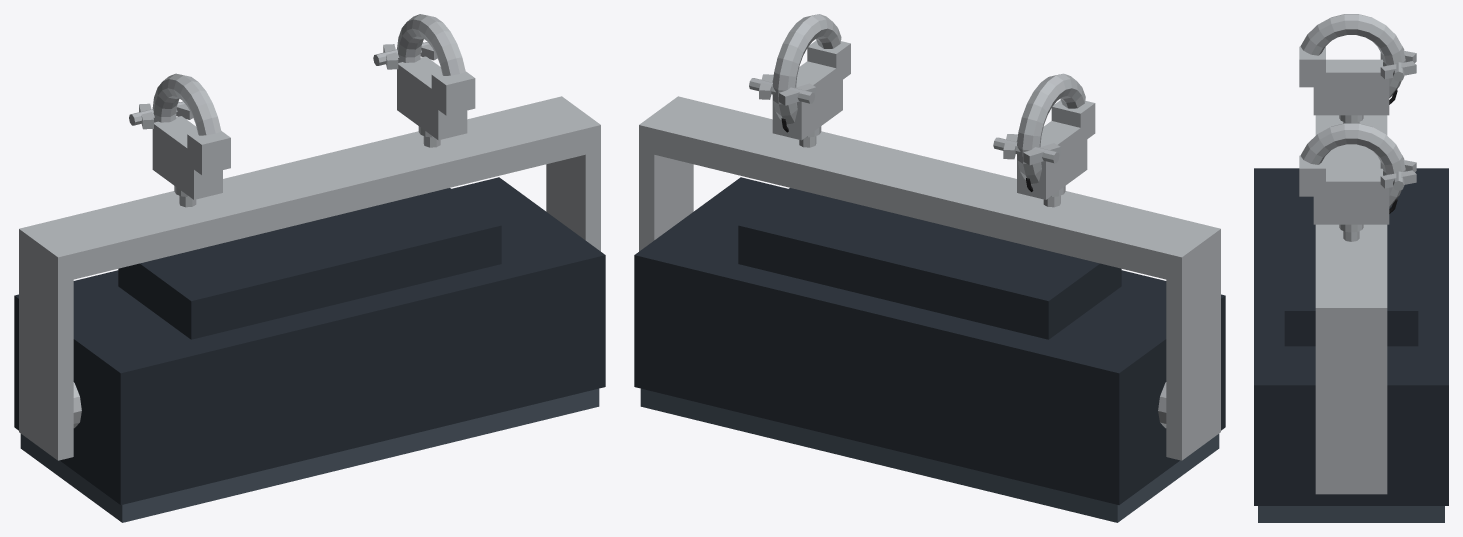
The model's file is led-strobe.glb.
The picture shows the model from 3 angles, left to right: view 1: azimuth 30°, elevation 25°; view 2: azimuth 150°, elevation 25°; view 3: azimuth 270°, elevation 25°; orthographic projection. The views are drawn at different scales.
Parts seen in each view (by area): view 1: body, hanging-frame, driver-housing, truss-coupler, lens-ring, truss-coupler-bolt; view 2: body, hanging-frame, driver-housing, truss-coupler, lens-ring, truss-coupler-bolt; view 3: body, hanging-frame, truss-coupler, driver-housing, lens-ring, truss-coupler-bolt.
Boxes of the visible parts, left/top/right/bottom form: body: left=14, top=177, right=605, bottom=504; hanging-frame: left=19, top=96, right=600, bottom=460; driver-housing: left=118, top=188, right=501, bottom=339; truss-coupler: left=152, top=14, right=475, bottom=207; lens-ring: left=20, top=388, right=599, bottom=522; truss-coupler-bolt: left=129, top=42, right=437, bottom=129; body: left=634, top=177, right=1225, bottom=504; hanging-frame: left=639, top=96, right=1220, bottom=460; driver-housing: left=738, top=188, right=1121, bottom=339; truss-coupler: left=772, top=14, right=1095, bottom=207; lens-ring: left=640, top=388, right=1219, bottom=522; truss-coupler-bolt: left=749, top=74, right=1060, bottom=165; body: left=1254, top=168, right=1448, bottom=505; hanging-frame: left=1315, top=115, right=1387, bottom=494; truss-coupler: left=1299, top=14, right=1405, bottom=241; driver-housing: left=1284, top=172, right=1418, bottom=346; lens-ring: left=1258, top=506, right=1444, bottom=522; truss-coupler-bolt: left=1380, top=46, right=1416, bottom=190.
Bounding box in the file's own units: 0.56 × 0.3736 × 0.19.
